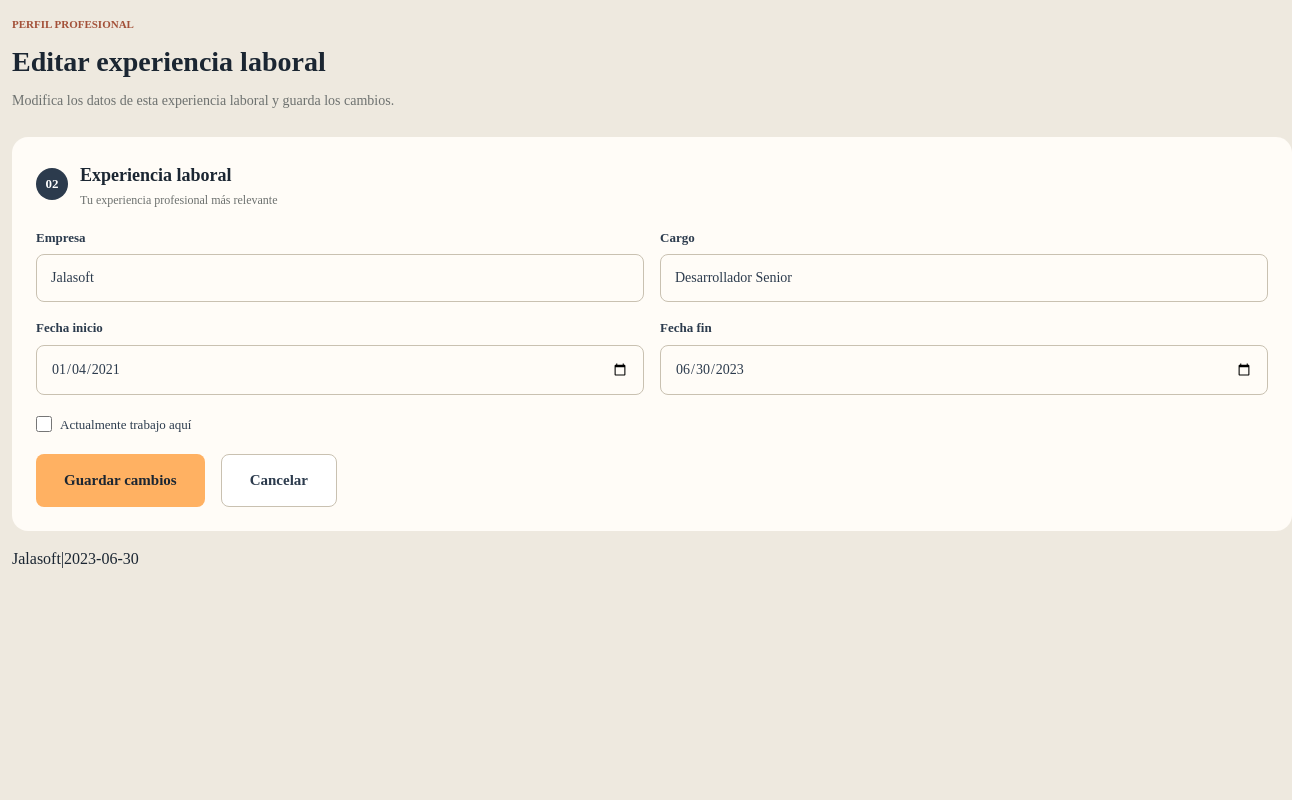
Test: EditExperienceForm › al marcar "Actualmente trabajo aquí" deshabilita la fecha fin y guarda como trabajo actual sin enviar fechaFin
Click the checkbox labelled "Actualmente trabajo aquí": [44, 424] box [36,416,52,432]
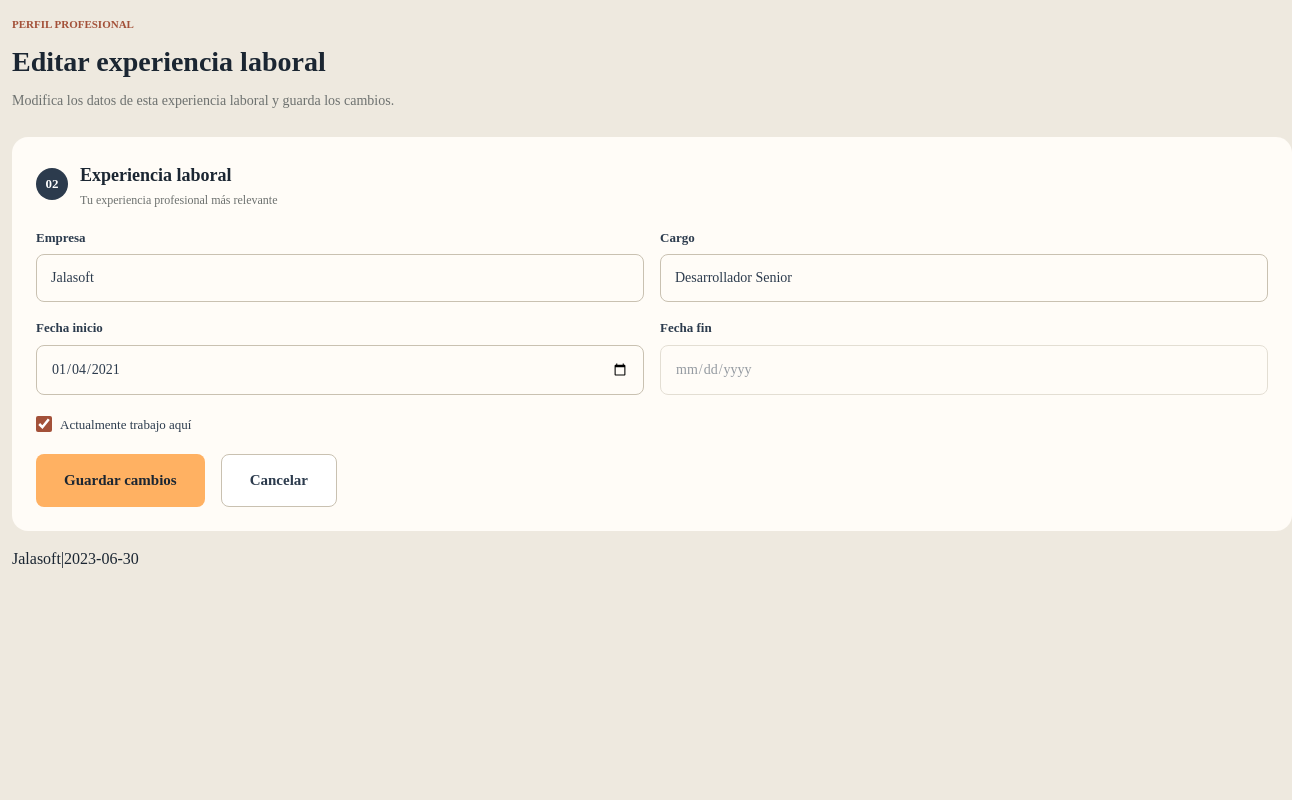
Now the date field labelled "Fecha fin" is disabled, box [660,344,1268,394]
Click the button "Guardar cambios": [120, 480] box [36,454,205,506]
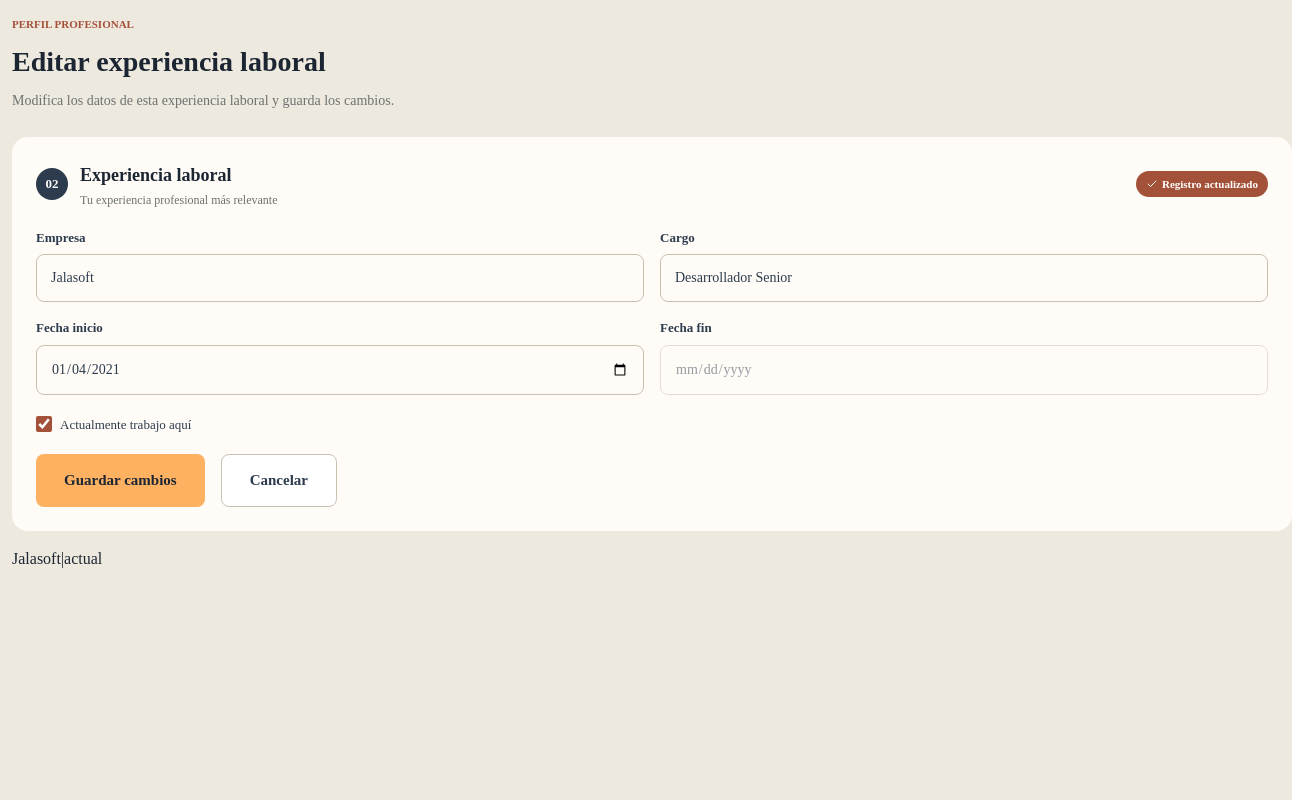
Now the message reads "Registro actualizado", box [1162,178,1258,190]
Now the text with test id "guardado" reads "Jalasoft|actual", box [12,550,102,566]
